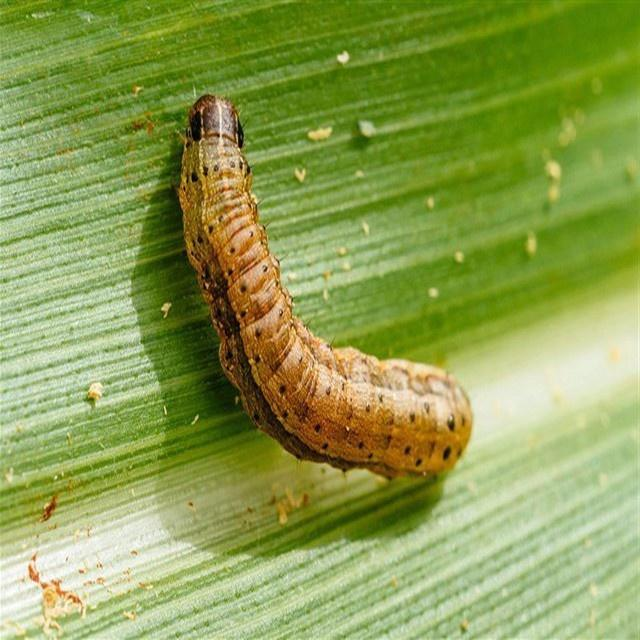gusano_cogollero: (172, 89, 478, 486)
